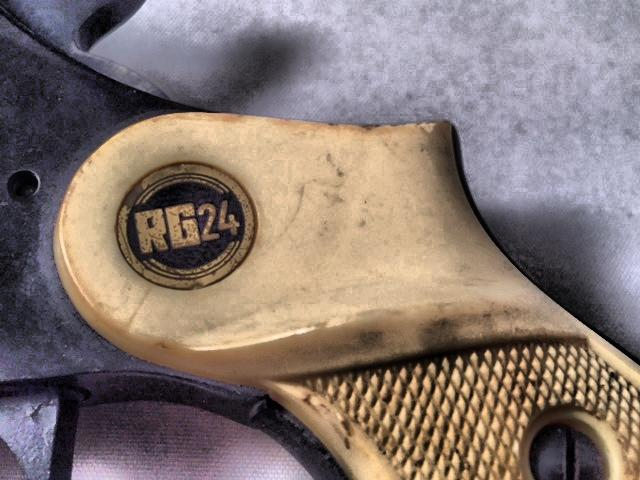pistol: (0, 0, 636, 480)
